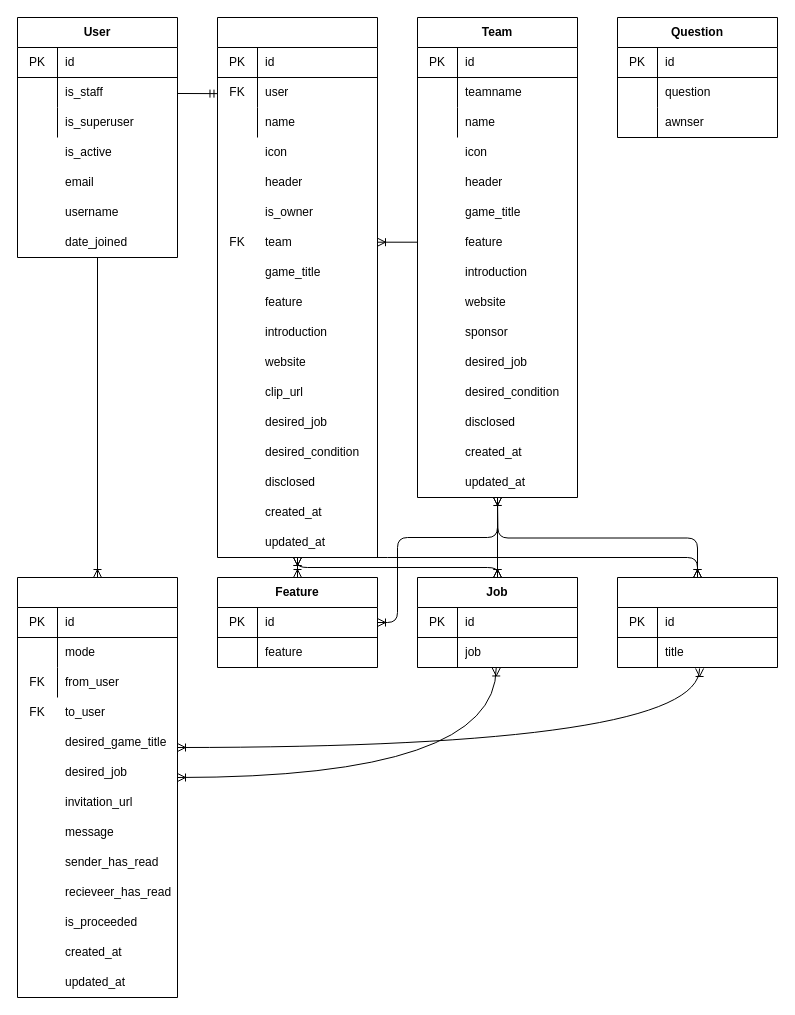
Image size: 795x1015. Some labels were removed from this diagram. Each missing label, with the box of its shape:
Game: (616, 576, 778, 668)
Notification: (16, 576, 178, 998)
UserProfile: (216, 16, 378, 558)
